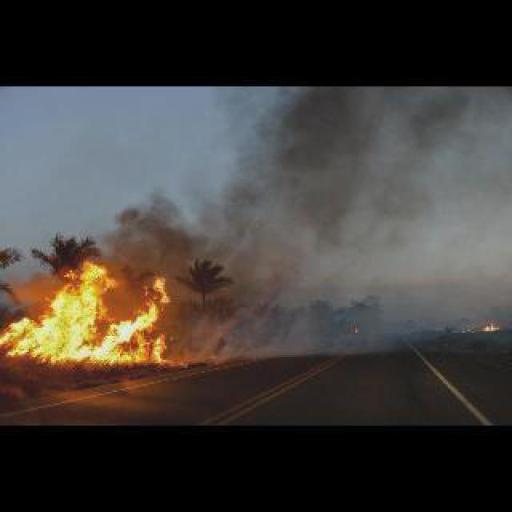smoke: (216, 84, 510, 274), (2, 264, 180, 366), (181, 301, 406, 357), (78, 186, 213, 262), (482, 322, 500, 330)
